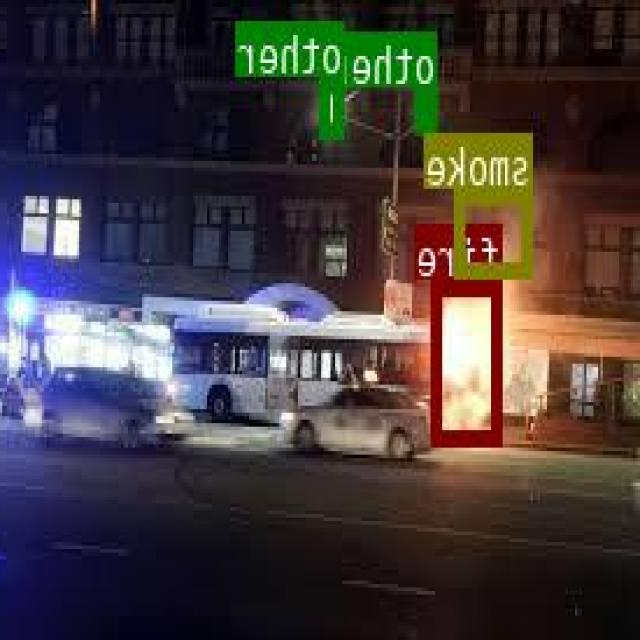fire: (435, 277, 504, 441)
other: (322, 75, 345, 135), (419, 86, 439, 128)
smoke: (457, 188, 533, 274)
